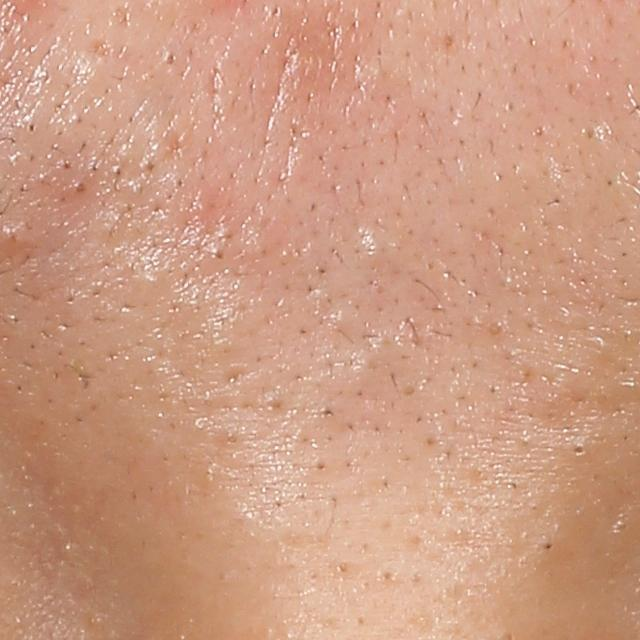comedo: (566, 438, 592, 460), (539, 539, 557, 555), (71, 180, 87, 197)
